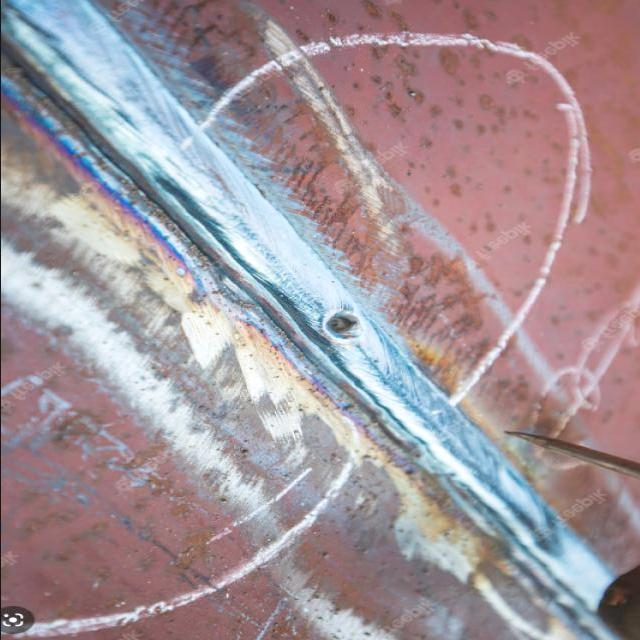defect: (318, 309, 359, 340)
